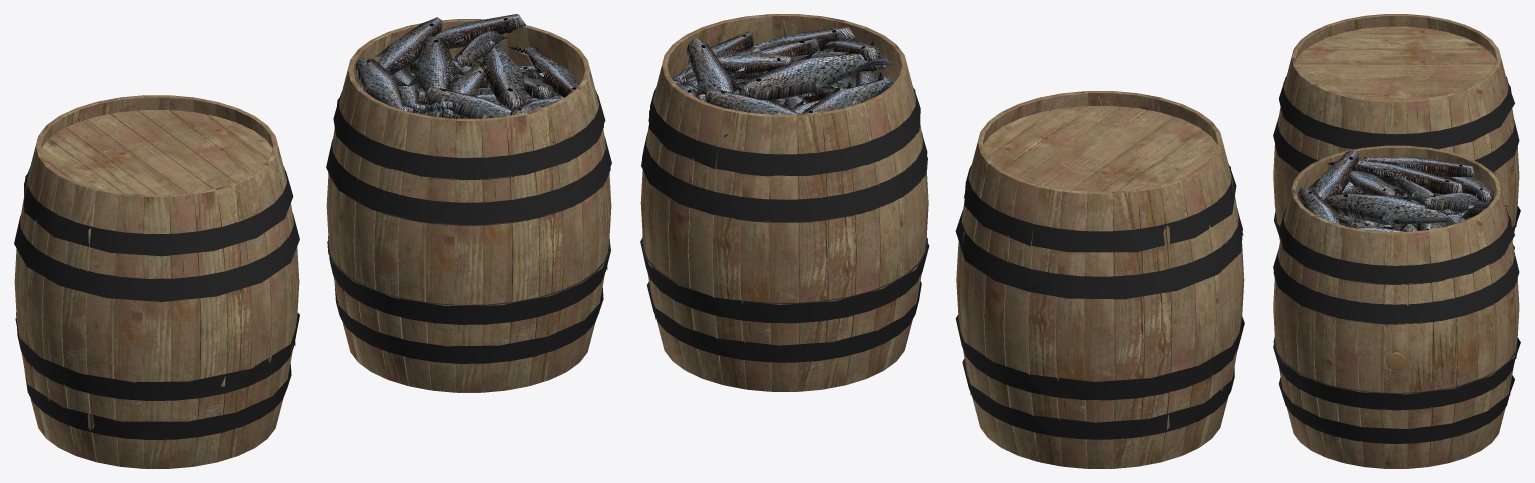
Rendered from botte.fbx.
3 views of the same model, side by side, from view 1: azimuth 30°, elevation 25°; view 2: azimuth 150°, elevation 25°; view 3: azimuth 270°, elevation 25° (orthographic). The views are drawn at different scales.
Visible parts, largest first — view 1: Plane, Plane.003, Circle.001, Circle, Sphere.028, Plane.001; view 2: Plane.003, Plane, Circle.001, Circle, Plane.001, Sphere.028; view 3: Plane.003, Circle.001, Plane, Sphere.028, Plane.001, Circle, Cylinder.001.
Boxes of the visible parts, x1,y1,x2,y2 form: Plane: (14,95,299,468); Plane.003: (326,19,611,392); Circle.001: (326,90,611,363); Circle: (14,166,299,439); Sphere.028: (355,14,579,143); Plane.001: (41,110,272,194); Plane.003: (640,14,928,391); Plane: (956,91,1244,468); Circle.001: (640,87,929,362); Circle: (955,165,1244,439); Plane.001: (983,106,1216,191); Sphere.028: (671,26,895,137); Plane.003: (1273,145,1519,468); Circle.001: (1273,208,1520,443); Plane: (1273,14,1519,240); Sphere.028: (1284,150,1508,231); Plane.001: (1296,26,1496,100); Circle: (1273,76,1520,249); Cylinder.001: (1386,352,1405,370).
Bounding box in the file's own units: 2702 × 1355 × 1187.
Materials: 5 (3 with a texture image).
